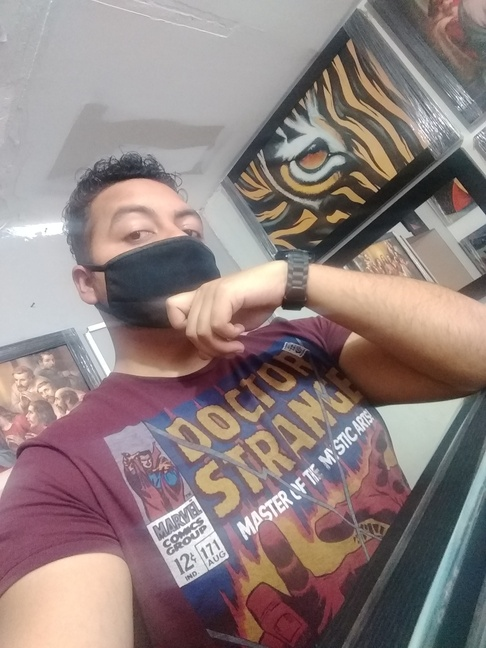Yoshi: (49, 112, 277, 372)
